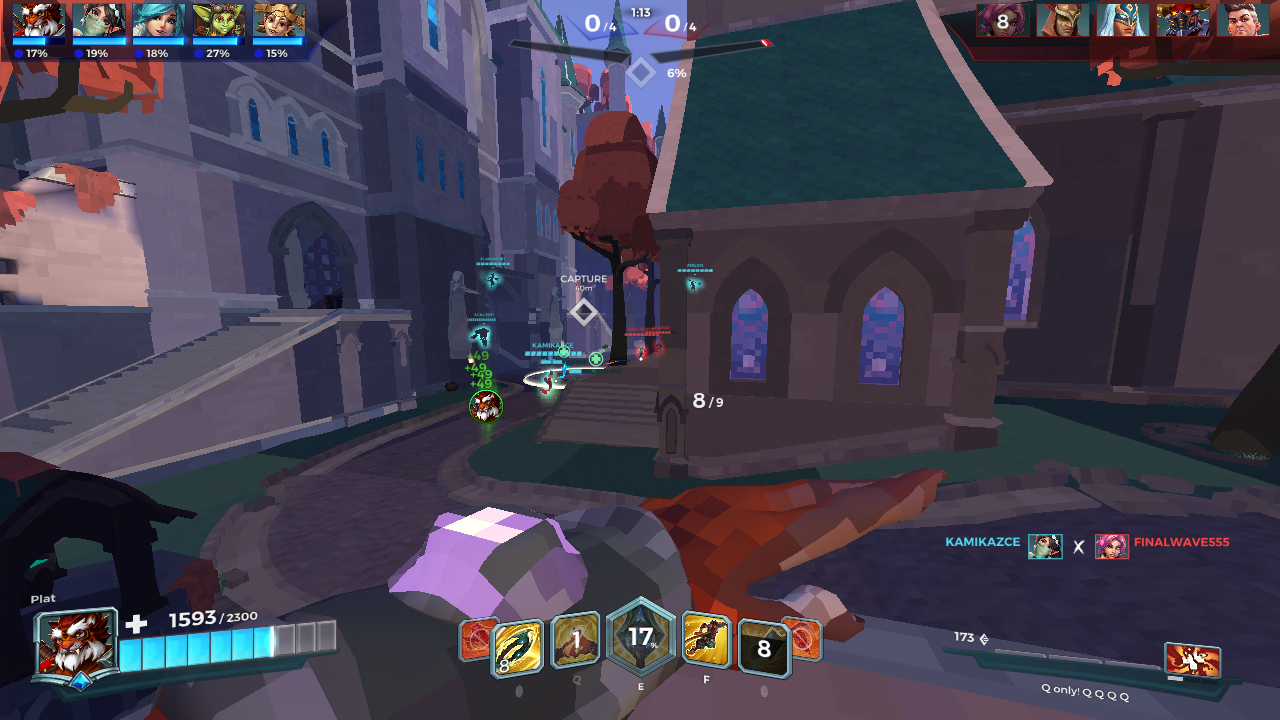model: (636, 343, 648, 362), (654, 339, 663, 356)
